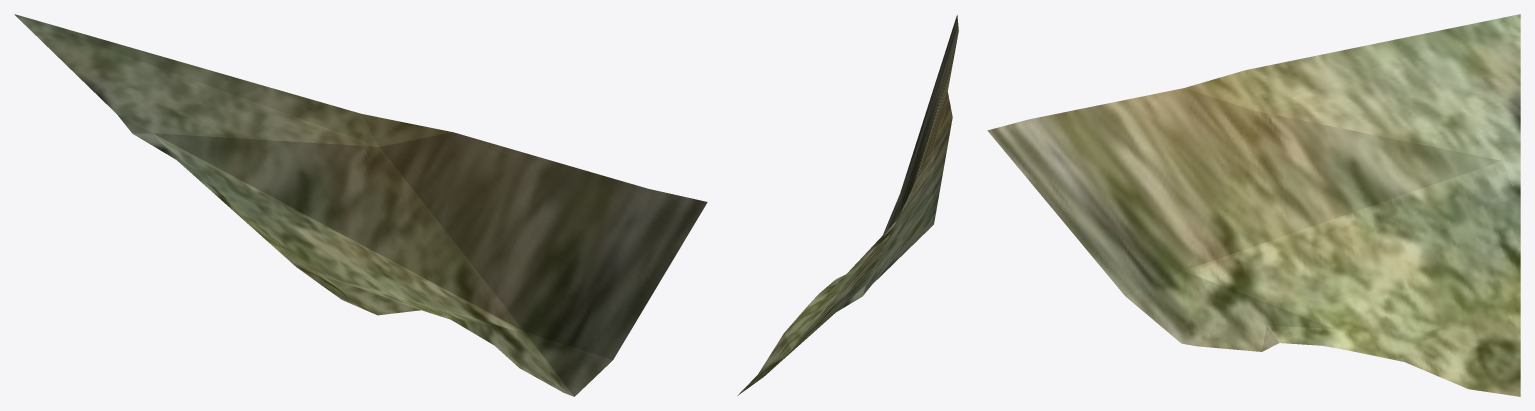
3 views of the same model, side by side, from view 1: azimuth 30°, elevation 25°; view 2: azimuth 150°, elevation 25°; view 3: azimuth 270°, elevation 25° (orthographic). The views are drawn at different scales.
Bounding box in the file's own units: 2.1 × 2.25 × 4.07.
Materials: 1 (1 with a texture image).
